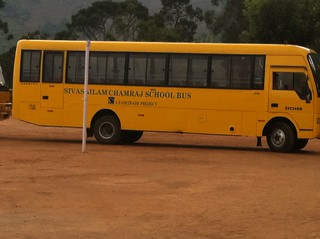bus: (11, 39, 320, 153)
